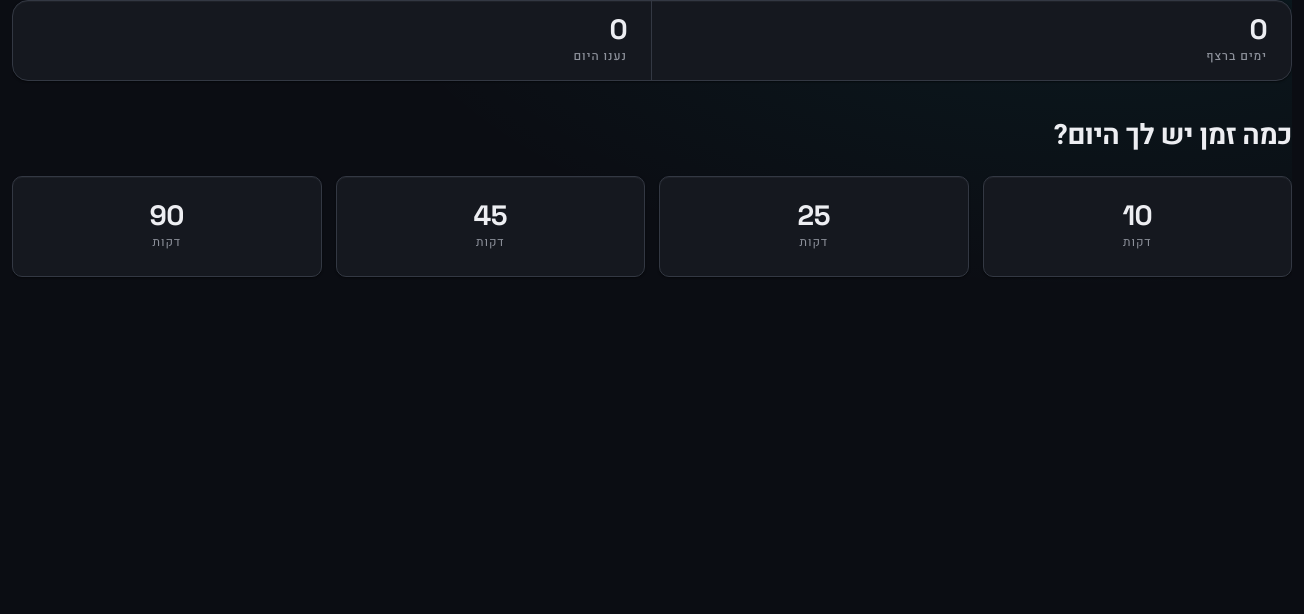
TodayScreen shortfall notice › explains a session that lands far under the requested budget
This screenshot has width=1304, height=614.
Click the button "10 דקות": (1137, 227) [982,176,1292,277]
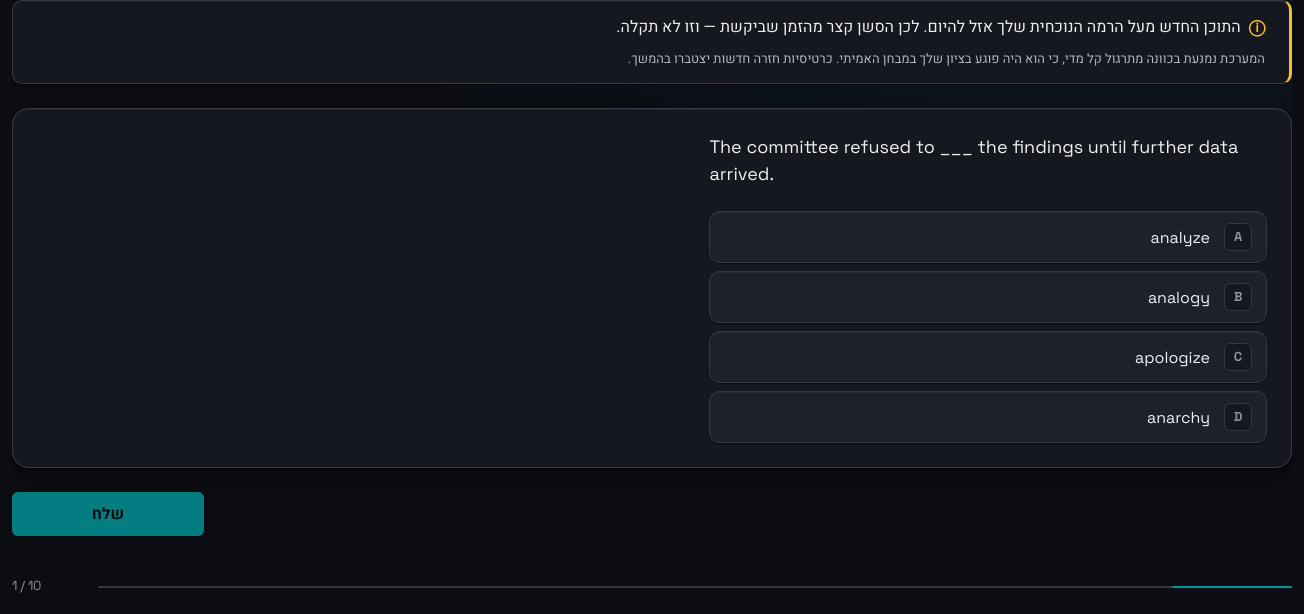
Check: the element named "שאלה" is shown
Check: the message shows "אזל להיום", box [616,15,1241,39]
